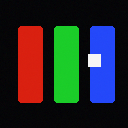1 square: (88, 54, 100, 66)
